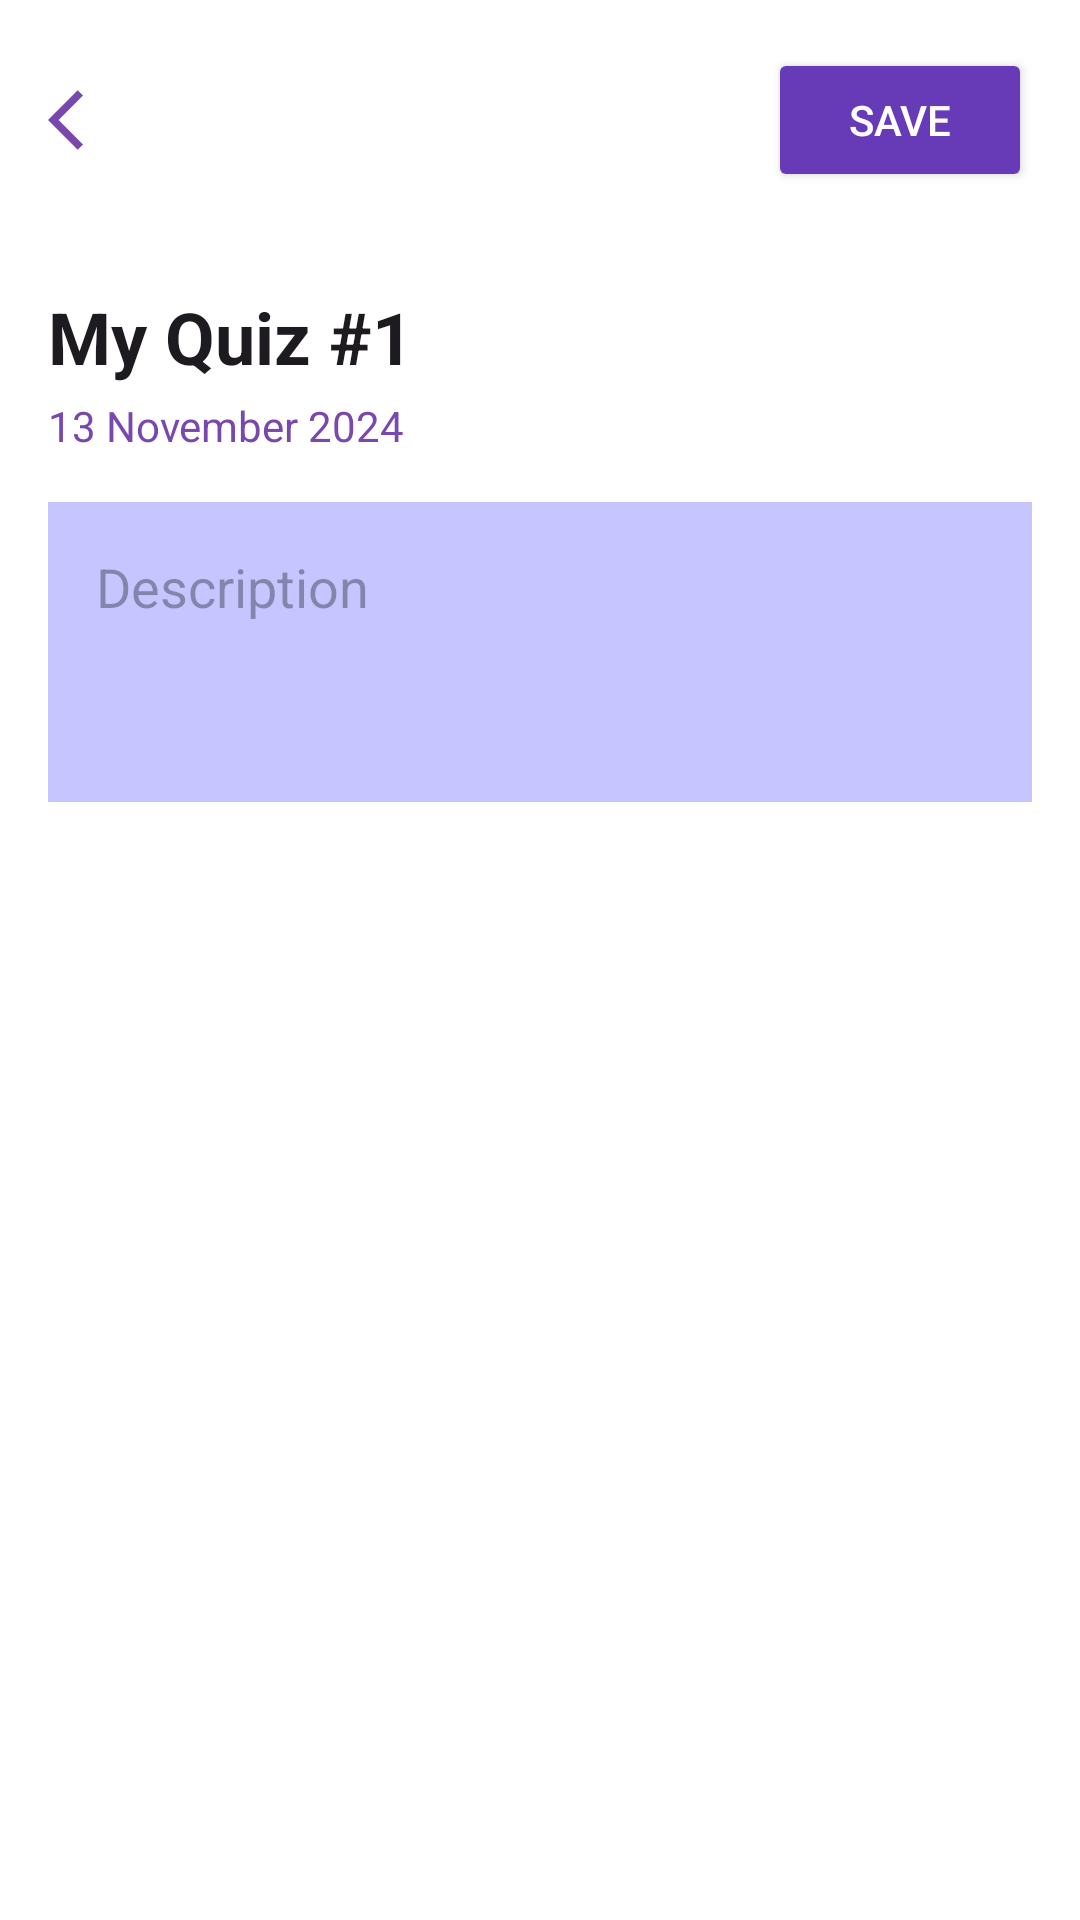

Locate icon controls on the screen. Image size 1080 × 1920, boxes as (x1, y1, x2, y2).
Back: (48, 90, 83, 150)
